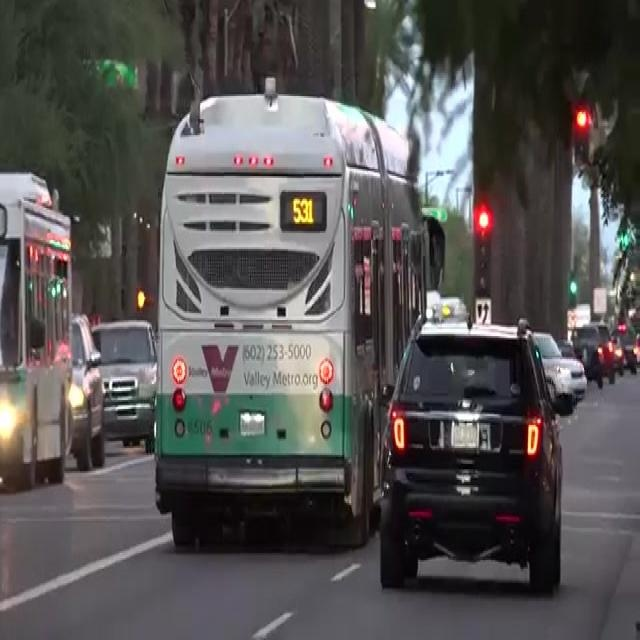Bus: (141, 99, 438, 553), (0, 158, 83, 500)
